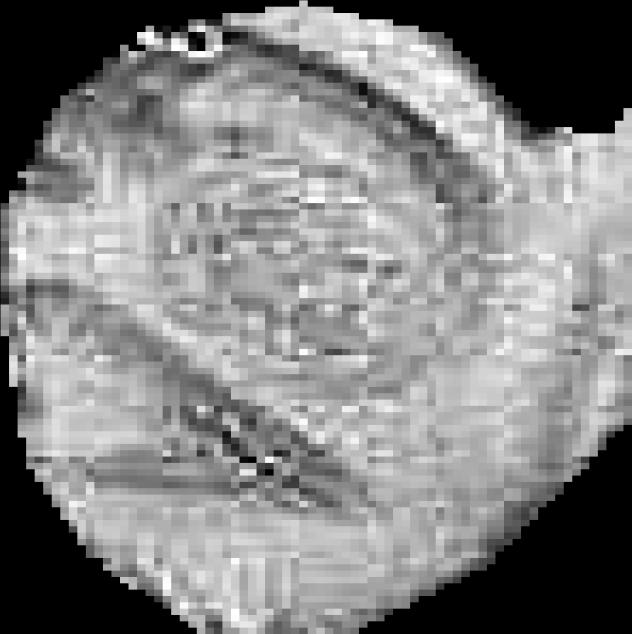tumor_less_chance: (1, 0, 632, 634)
